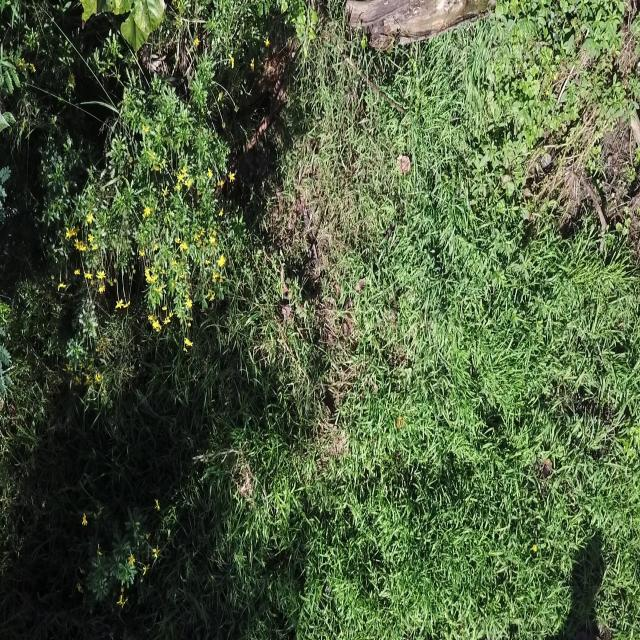Mysore-Thorn-Weed: (0, 43, 33, 95), (0, 156, 15, 223), (0, 320, 9, 402)
